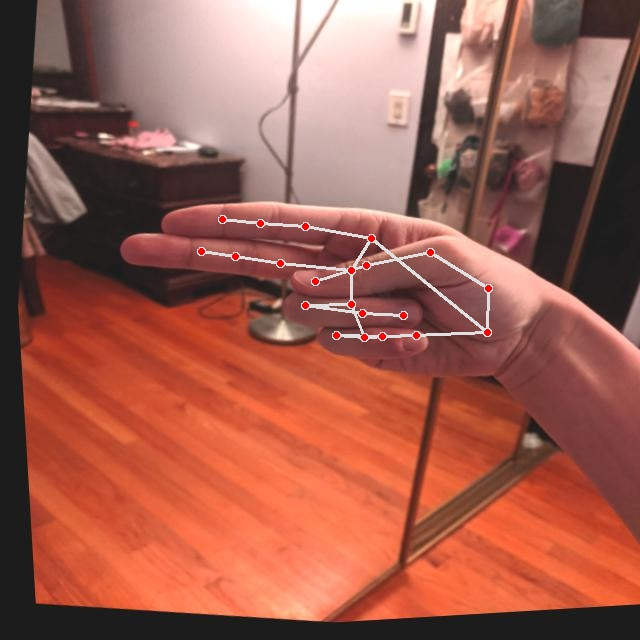H: (91, 166, 555, 415)
